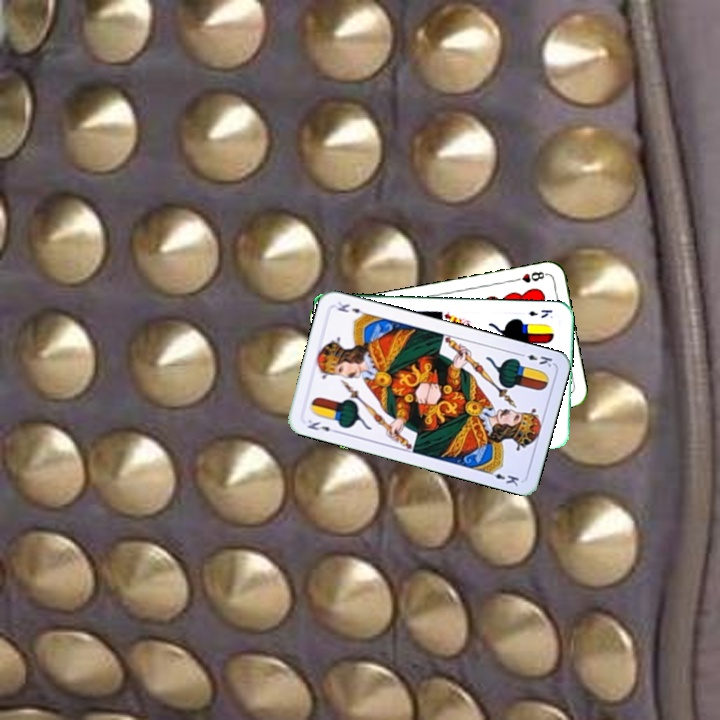EK: (515, 349, 555, 370), (303, 416, 340, 436), (525, 306, 555, 320)
H8: (509, 268, 550, 285)
